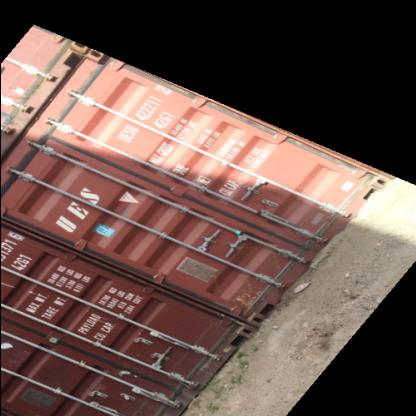Damage: (201, 235, 295, 334), (136, 352, 216, 408)
